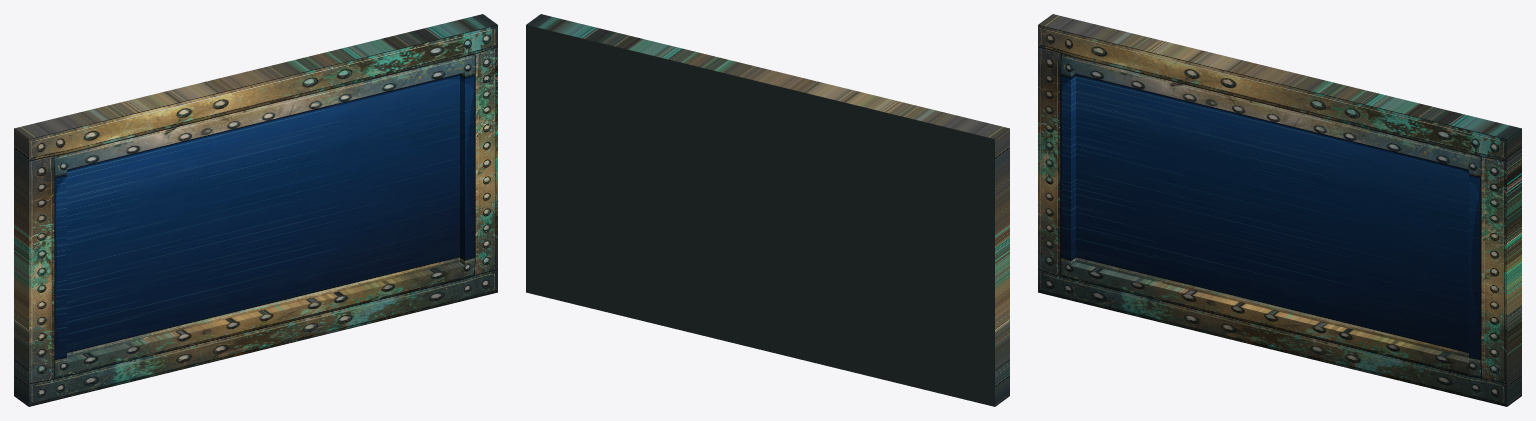
The model's file is panel_meeting.glb.
The picture shows the model from 3 angles, left to right: view 1: azimuth 30°, elevation 25°; view 2: azimuth 150°, elevation 25°; view 3: azimuth 330°, elevation 25°; orthographic projection.
Visible parts, largest first — view 1: panel_meeting; view 2: panel_meeting; view 3: panel_meeting.
Part boxes in pixels (x1,y1,x2,y2): panel_meeting: (14, 14, 497, 406); panel_meeting: (526, 14, 1009, 406); panel_meeting: (1038, 14, 1521, 406).
Size of the model in its own units: 0.66 by 0.36 by 0.042.
1 material, 1 textured.
